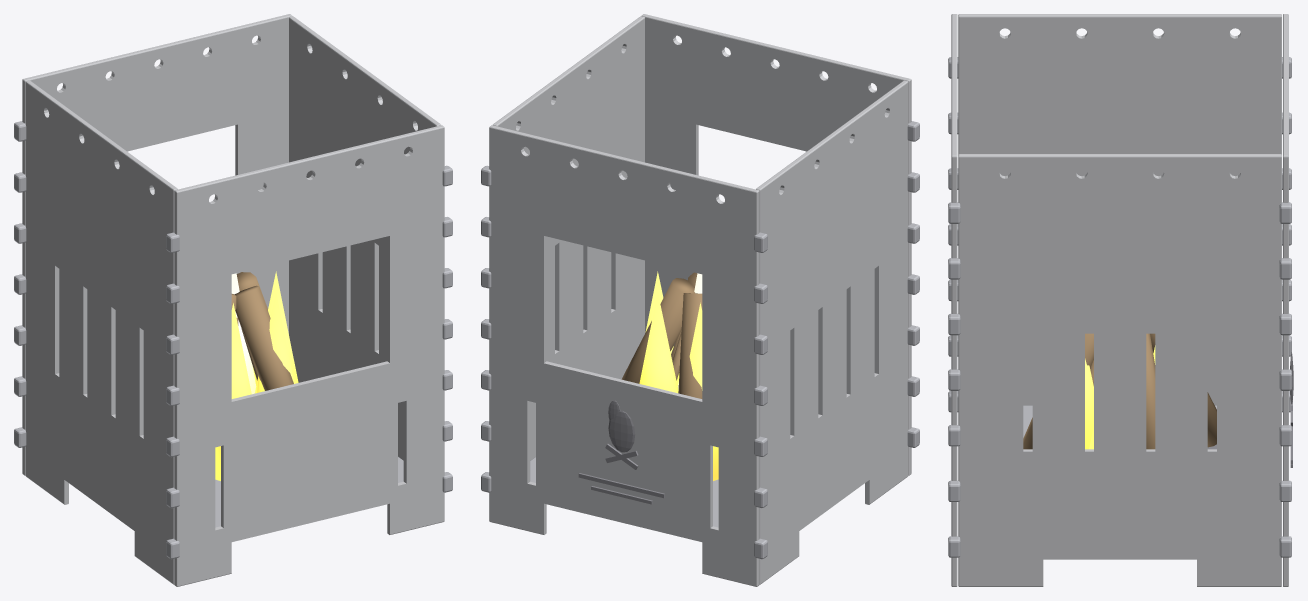
File: feuerschale.glb
3 views of the same model, side by side, from view 1: azimuth 30°, elevation 25°; view 2: azimuth 150°, elevation 25°; view 3: azimuth 270°, elevation 25° (orthographic). The views are drawn at different scales.
Visible parts, largest first — view 1: Feuerschale, FlammenMesh, LogsMesh; view 2: Feuerschale, LogsMesh, FlammenMesh; view 3: Feuerschale, LogsMesh, FlammenMesh.
Boxes of the visible parts, box(x1,y1,x2,y2) form: Feuerschale: box(14, 14, 452, 586); FlammenMesh: box(215, 271, 298, 480); LogsMesh: box(231, 272, 293, 390); Feuerschale: box(481, 14, 919, 586); LogsMesh: box(621, 272, 702, 398); FlammenMesh: box(639, 271, 718, 480); Feuerschale: box(948, 14, 1293, 586); LogsMesh: box(1023, 333, 1216, 449); FlammenMesh: box(1085, 345, 1155, 449).
Size of the model in its own units: 0.464 by 0.62 by 0.4501.
